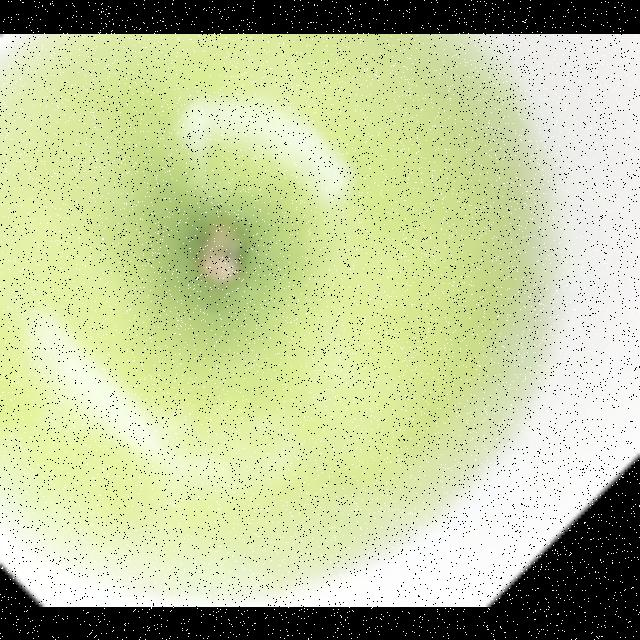Apel Segar: (0, 34, 580, 606)
